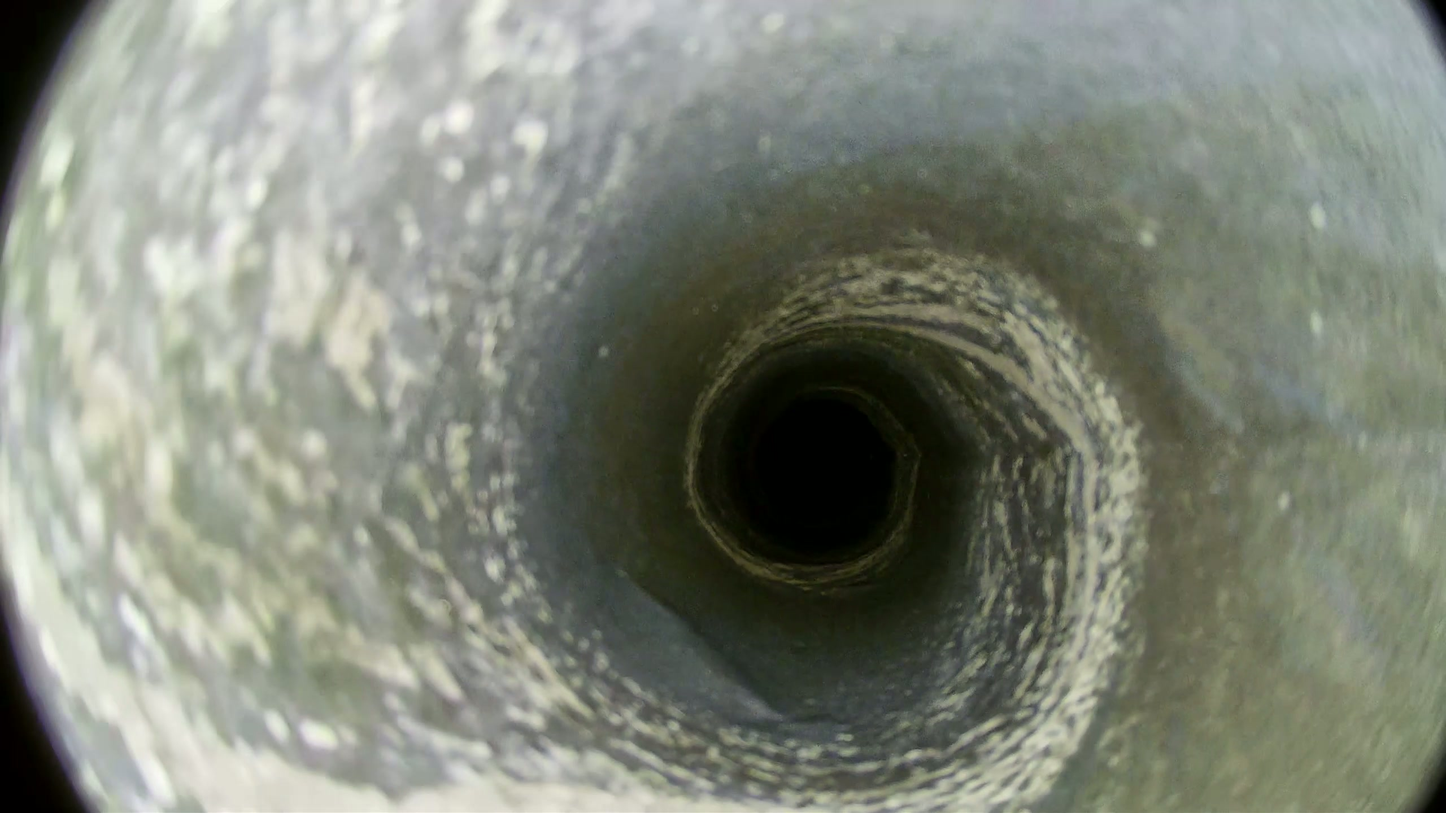hole: (756, 402, 880, 521)
